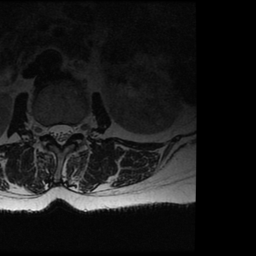CCS_normal: (57, 118, 64, 151)
LFS_normal: (72, 119, 79, 139)
LLS_normal: (64, 119, 72, 140)
RFS_normal: (42, 119, 50, 140)
RLS_normal: (49, 119, 57, 143)
